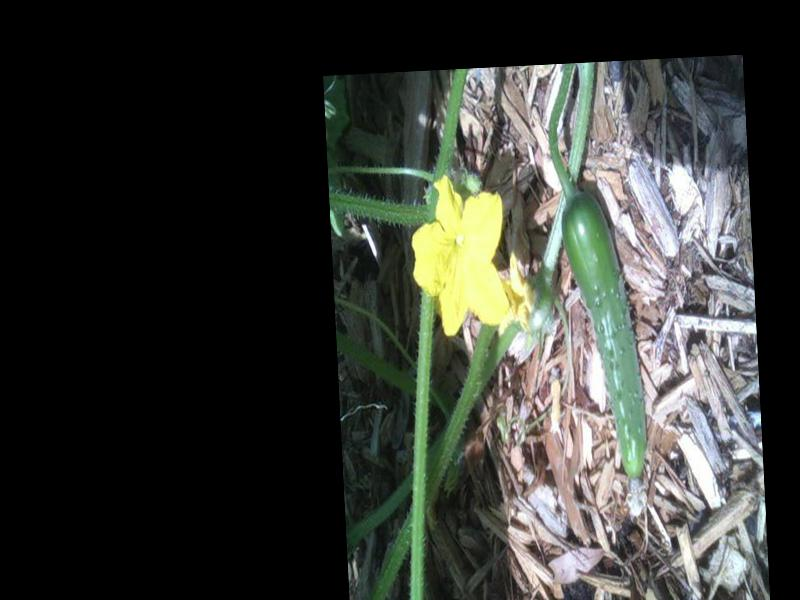Cucumber: (559, 185, 653, 512)
